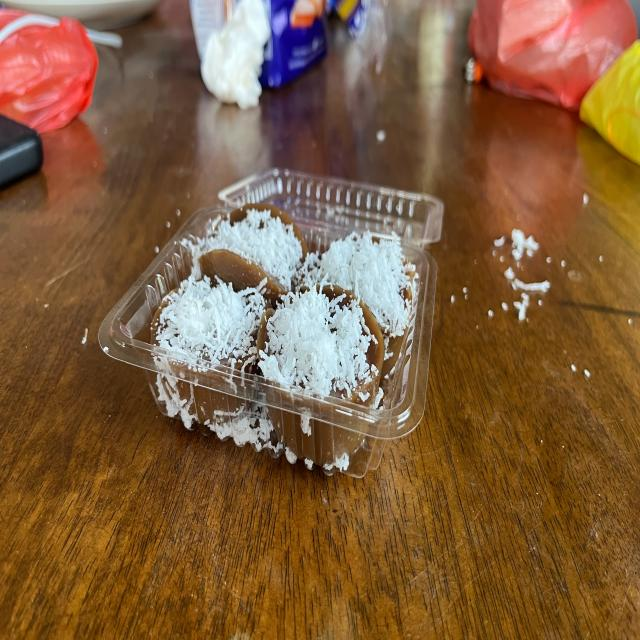Kuih lompang: (258, 284, 391, 469), (146, 273, 266, 427), (299, 231, 414, 378), (199, 202, 308, 307)
